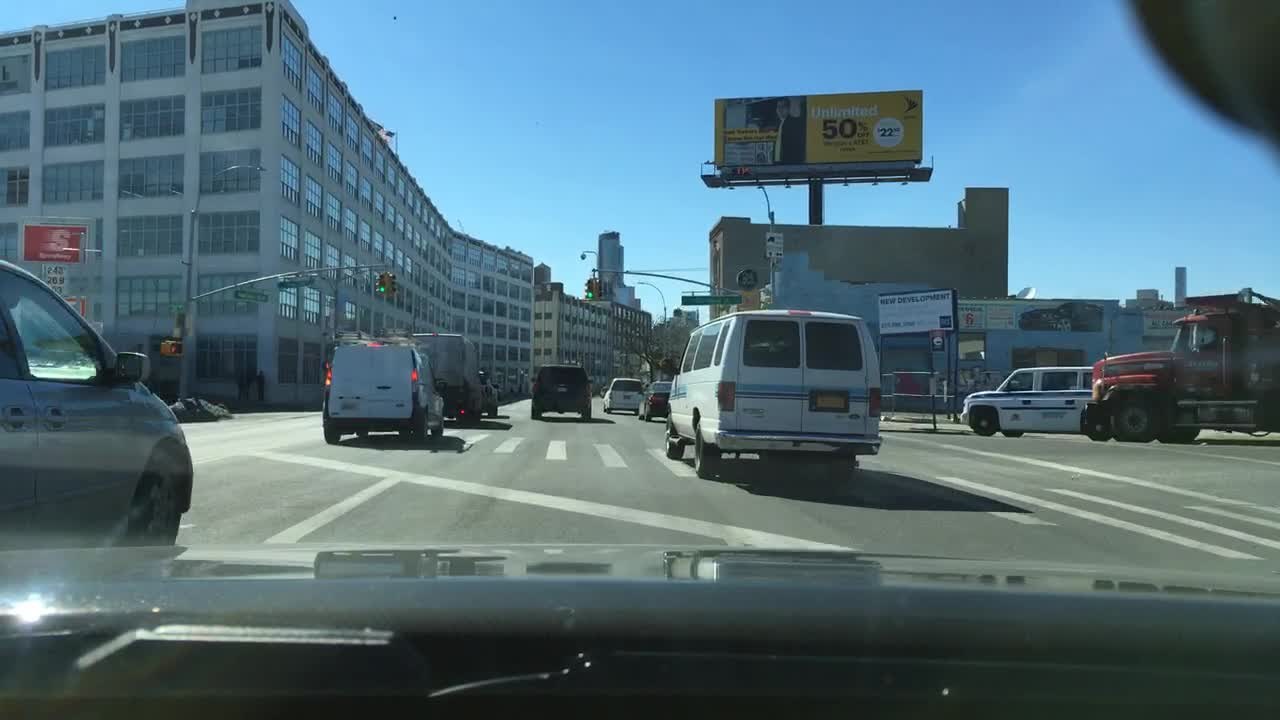car: (1, 259, 192, 548), (663, 310, 882, 483), (322, 336, 443, 442), (959, 364, 1095, 435), (531, 363, 591, 420), (603, 376, 643, 413), (636, 379, 672, 420), (479, 370, 499, 417), (597, 384, 608, 397), (642, 377, 656, 386)
person: (237, 366, 252, 405), (256, 369, 265, 402)
traffic light: (159, 341, 184, 354), (595, 279, 604, 300), (587, 279, 595, 300), (380, 273, 388, 293), (374, 274, 382, 293), (389, 272, 395, 294), (584, 279, 588, 300)
traffic sign: (681, 295, 743, 306), (231, 289, 267, 302), (767, 232, 782, 256), (278, 279, 309, 288), (170, 304, 186, 312)
truck: (1086, 286, 1279, 441), (410, 331, 481, 423)
